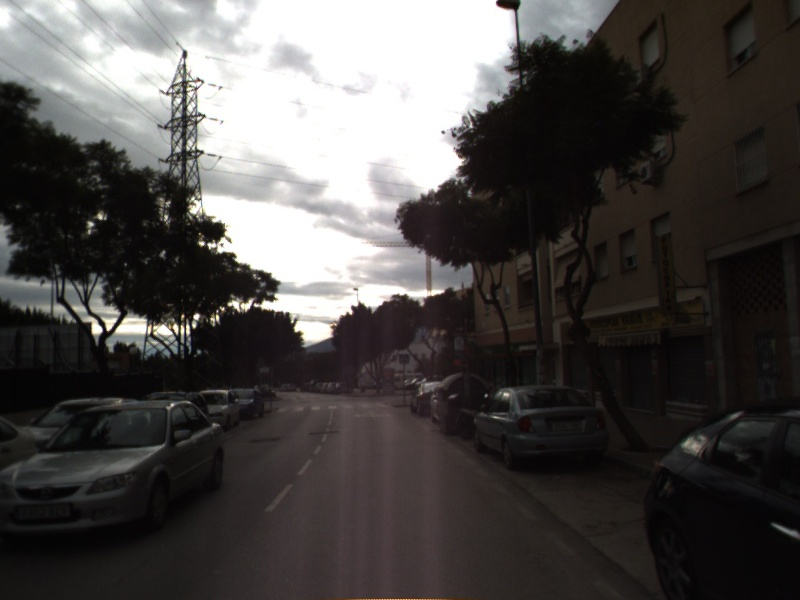STRAIGHT_LEFT_RIGHT: (350, 408, 394, 420)
